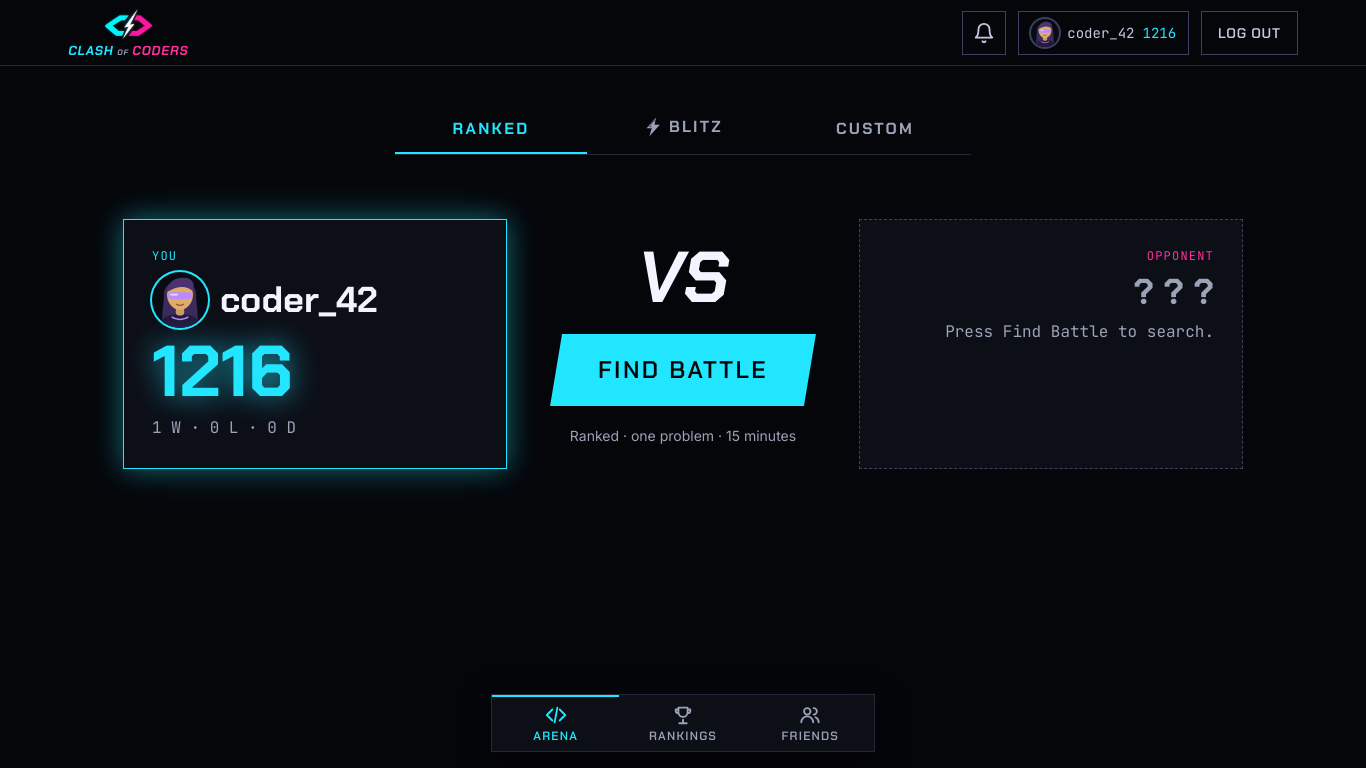
Test: lobby › tells the player when no opponent was found
Click the button "Find Battle" at (683, 370), box [550,334,816,406]
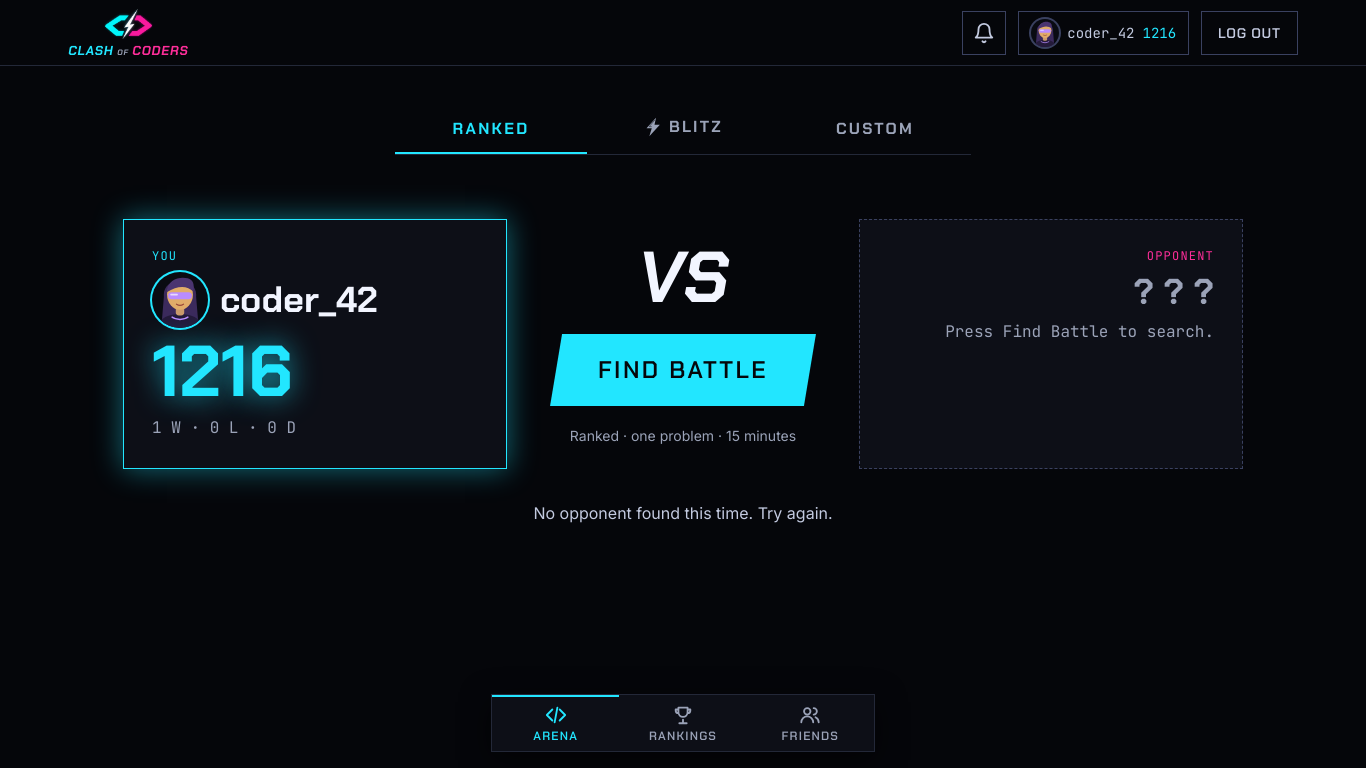
Expected: the text "No opponent found this time. Try again." is shown, [533,503,832,523]
